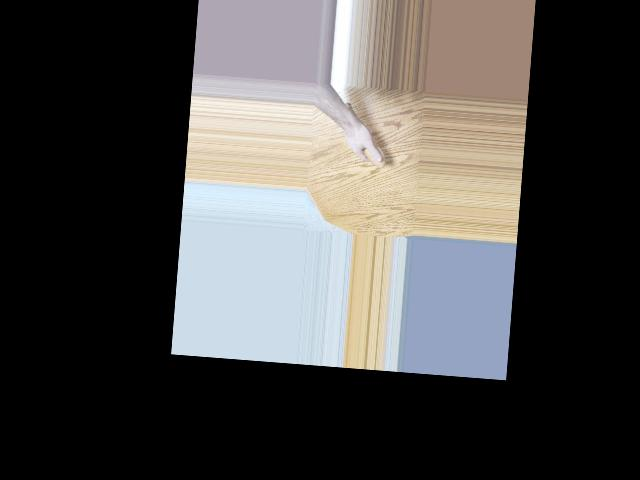sweet_potato: (335, 99, 390, 169)
